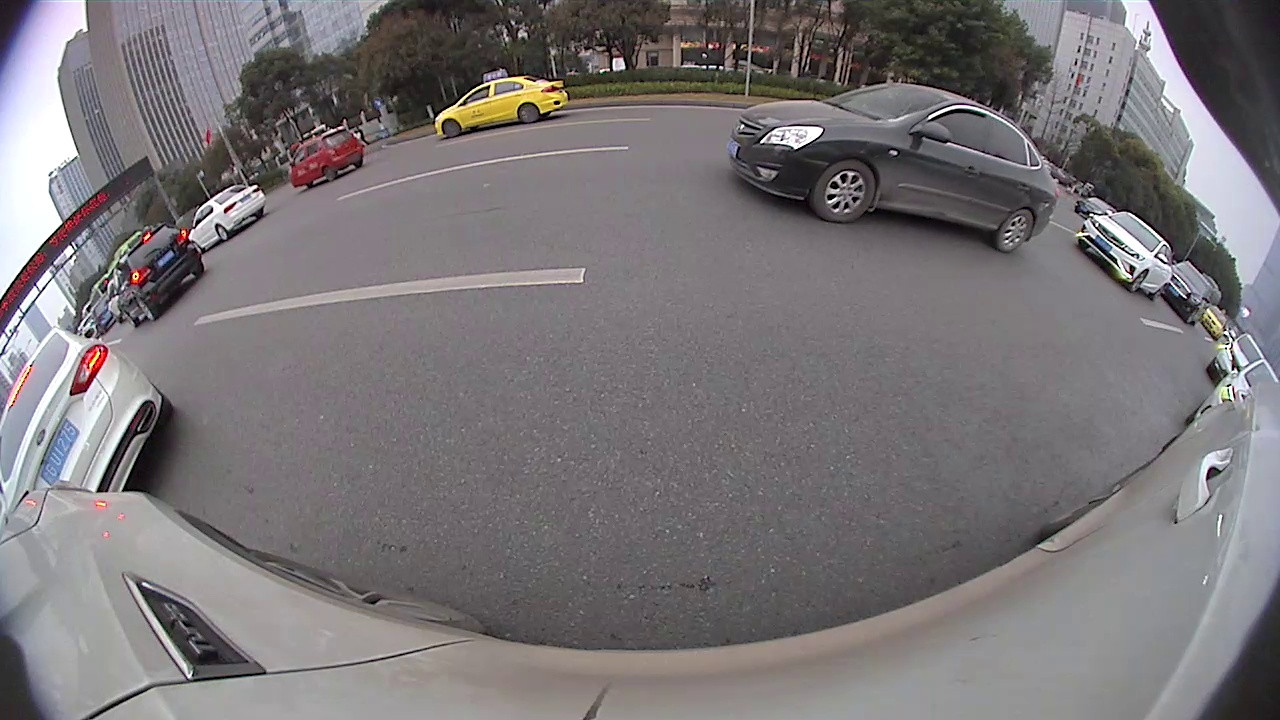car: (724, 79, 1060, 256), (1, 322, 179, 525), (432, 68, 573, 145), (109, 220, 208, 324), (1075, 208, 1173, 301), (190, 177, 269, 251), (287, 129, 367, 193), (1168, 263, 1216, 328)
front: (810, 160, 878, 223), (1129, 268, 1148, 296), (443, 119, 461, 138)
rear: (995, 207, 1036, 253), (133, 292, 156, 323), (518, 103, 540, 125), (217, 225, 231, 243), (323, 167, 338, 183)
